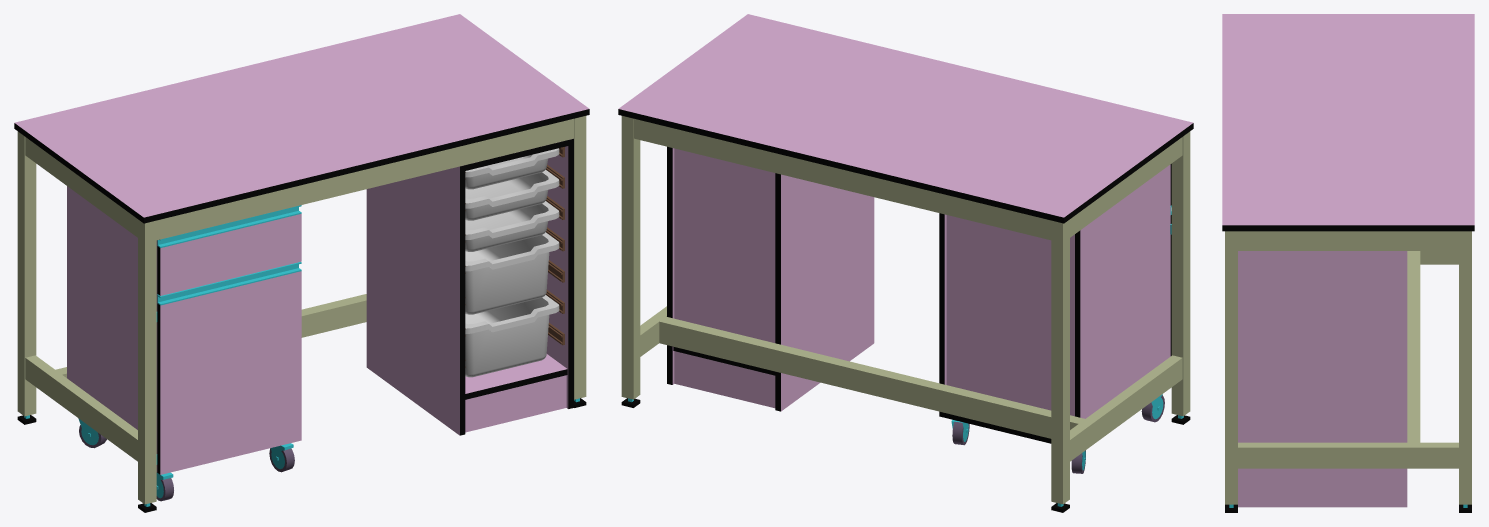
Rendered from lab_benching_v1.fbx.
The picture shows the model from 3 angles, left to right: view 1: azimuth 30°, elevation 25°; view 2: azimuth 150°, elevation 25°; view 3: azimuth 270°, elevation 25°; orthographic projection. The views are drawn at different scales.
Parts seen in each view (by area): view 1: benching_desk, benching_drawer_cabinet, mobile_cabinet_door_01, benching_mobile_cabinet, mobile_cabinet_drawer_01, benching_drawer_05, benching_drawer_04, benching_drawer_02, benching_drawer_03, benching_drawer_01; view 2: benching_desk, benching_mobile_cabinet, benching_drawer_cabinet; view 3: benching_desk, benching_drawer_cabinet.
Part boxes in pixels (x1,y1,x2,y2): benching_desk: (14,14,589,512); benching_drawer_cabinet: (366,138,573,435); mobile_cabinet_door_01: (156,262,301,474); benching_mobile_cabinet: (67,186,294,501); mobile_cabinet_drawer_01: (157,205,301,295); benching_drawer_05: (465,295,559,377); benching_drawer_04: (465,232,559,314); benching_drawer_02: (465,169,559,220); benching_drawer_03: (465,201,559,251); benching_drawer_01: (465,148,559,189); benching_desk: (618,14,1193,512); benching_mobile_cabinet: (939,164,1170,473); benching_drawer_cabinet: (667,146,874,411); benching_desk: (1222,14,1474,512); benching_drawer_cabinet: (1238,251,1407,507).
Size of the model in its own units: 149 by 95.02 by 75.25.
